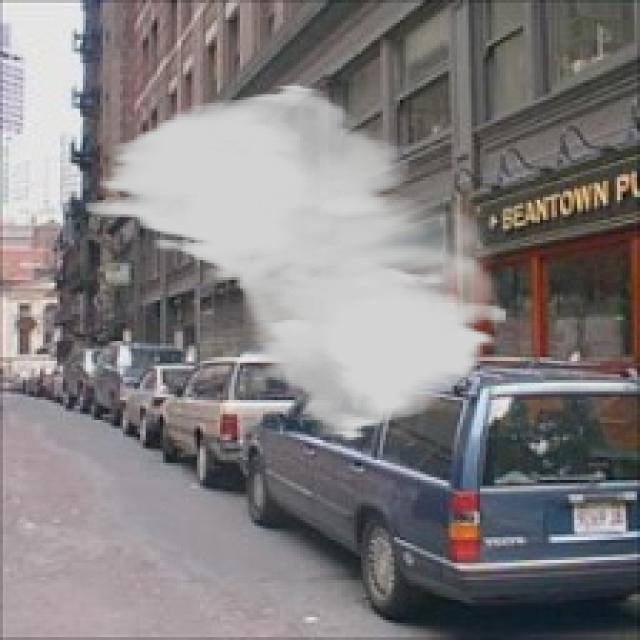smoke: (86, 83, 508, 443)
